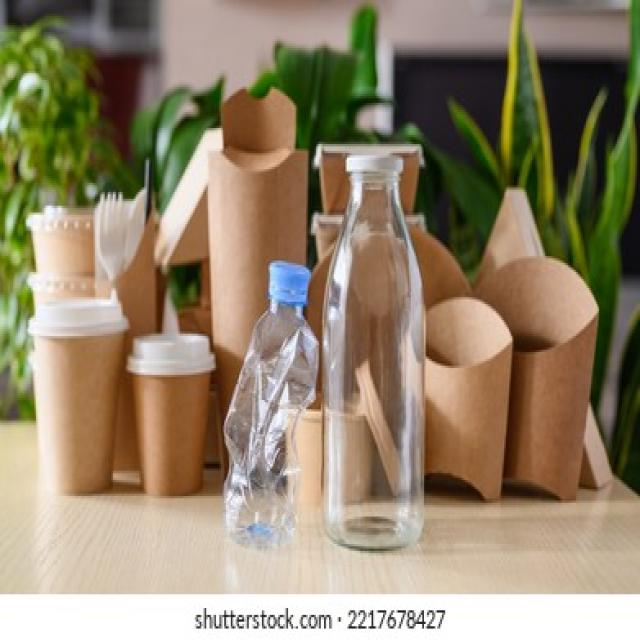cardboard: (463, 306, 591, 489), (49, 375, 180, 480)
plastic: (258, 284, 416, 521)
